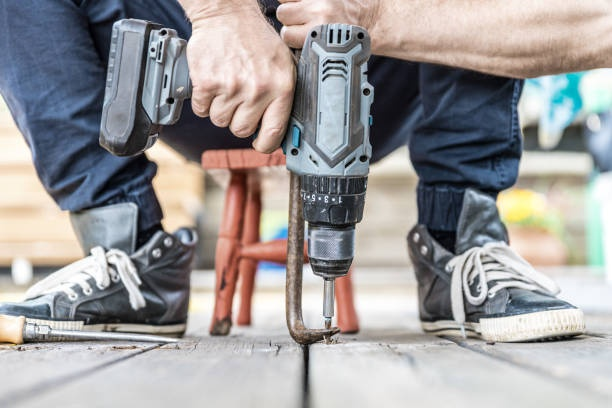driller: (98, 19, 375, 340)
